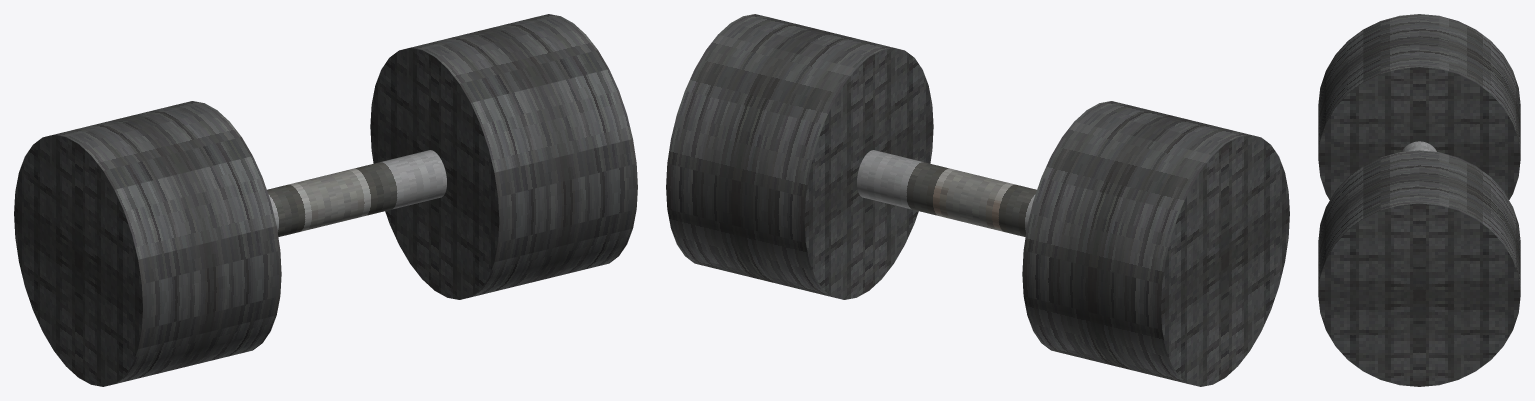
Rendered from fitness-dumbbell.glb.
The picture shows the model from 3 angles, left to right: view 1: azimuth 30°, elevation 25°; view 2: azimuth 150°, elevation 25°; view 3: azimuth 270°, elevation 25°; orthographic projection. The views are drawn at different scales.
Visible parts, largest first — view 1: weight (×2), grip; view 2: weight (×2), grip; view 3: weight (×2), grip.
Boxes of the visible parts, <box> form: weight (×2): <box>14,14,637,386</box>; grip: <box>267,150,446,236</box>; weight (×2): <box>666,14,1289,386</box>; grip: <box>857,150,1036,236</box>; weight (×2): <box>1318,14,1520,386</box>; grip: <box>1402,141,1436,151</box>.
Size of the model in its own units: 0.31 by 0.14 by 0.14.
2 materials, 2 textured.
